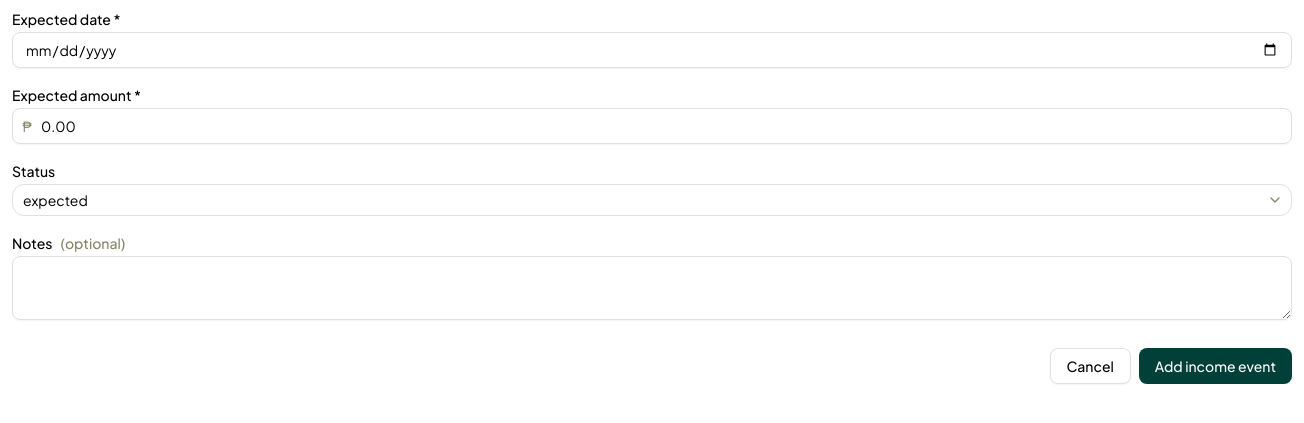
Scenario: IncomeEventForm › shows error when expected date is missing
What coordinates should you click on to do the following:
click the button "Add income event"
I would click on:
 (1215, 366)
Its box is left=1139, top=348, right=1292, bottom=384.
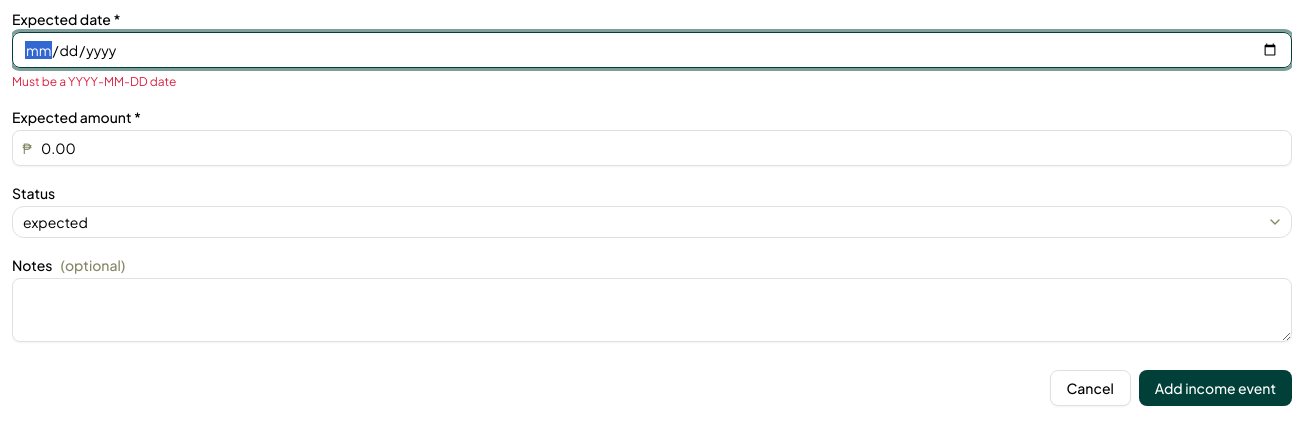
expect the message "Must be a YYYY-MM-DD date" is shown: met, box left=12, top=74, right=176, bottom=89
